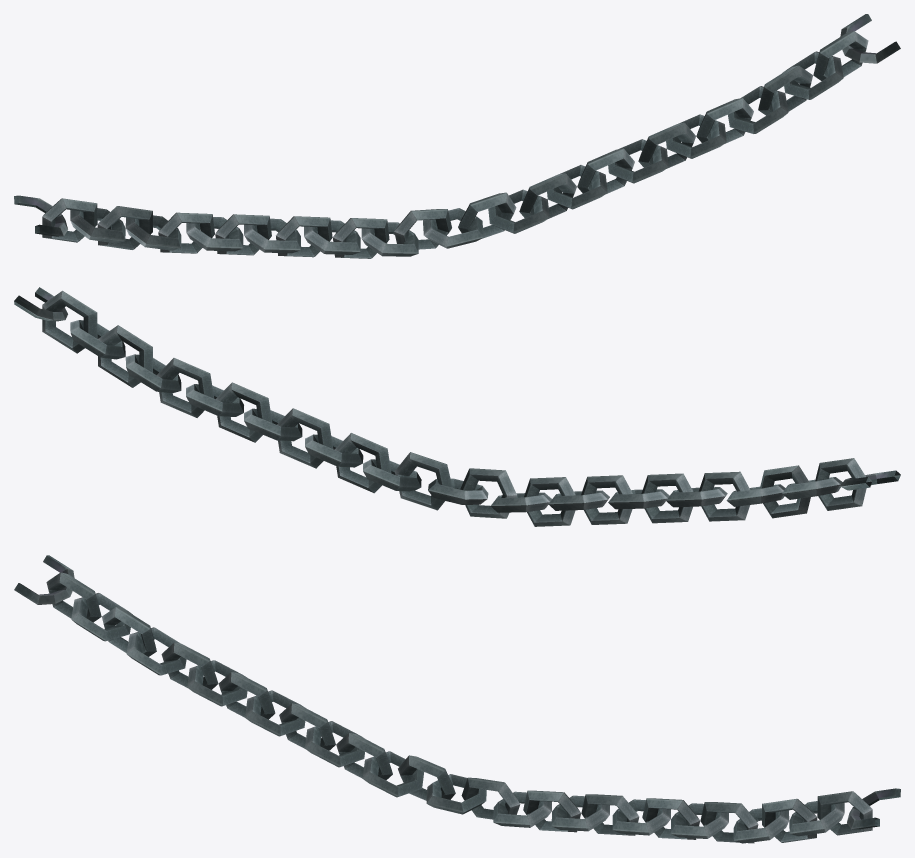
The model's file is changjing_suolian.FBX.
The picture shows the model from 3 angles, top to bottom: view 1: azimuth 30°, elevation 25°; view 2: azimuth 150°, elevation 25°; view 3: azimuth 330°, elevation 25°; orthographic projection.
Visible parts, largest first — view 1: changjing_suolian_b; view 2: changjing_suolian_b; view 3: changjing_suolian_b.
Part boxes in pixels (<box>): changjing_suolian_b: <box>14,14,900,258</box>; changjing_suolian_b: <box>14,287,900,526</box>; changjing_suolian_b: <box>14,555,900,843</box>.
Bounding box in the file's own units: 324 × 19.95 × 53.2.
